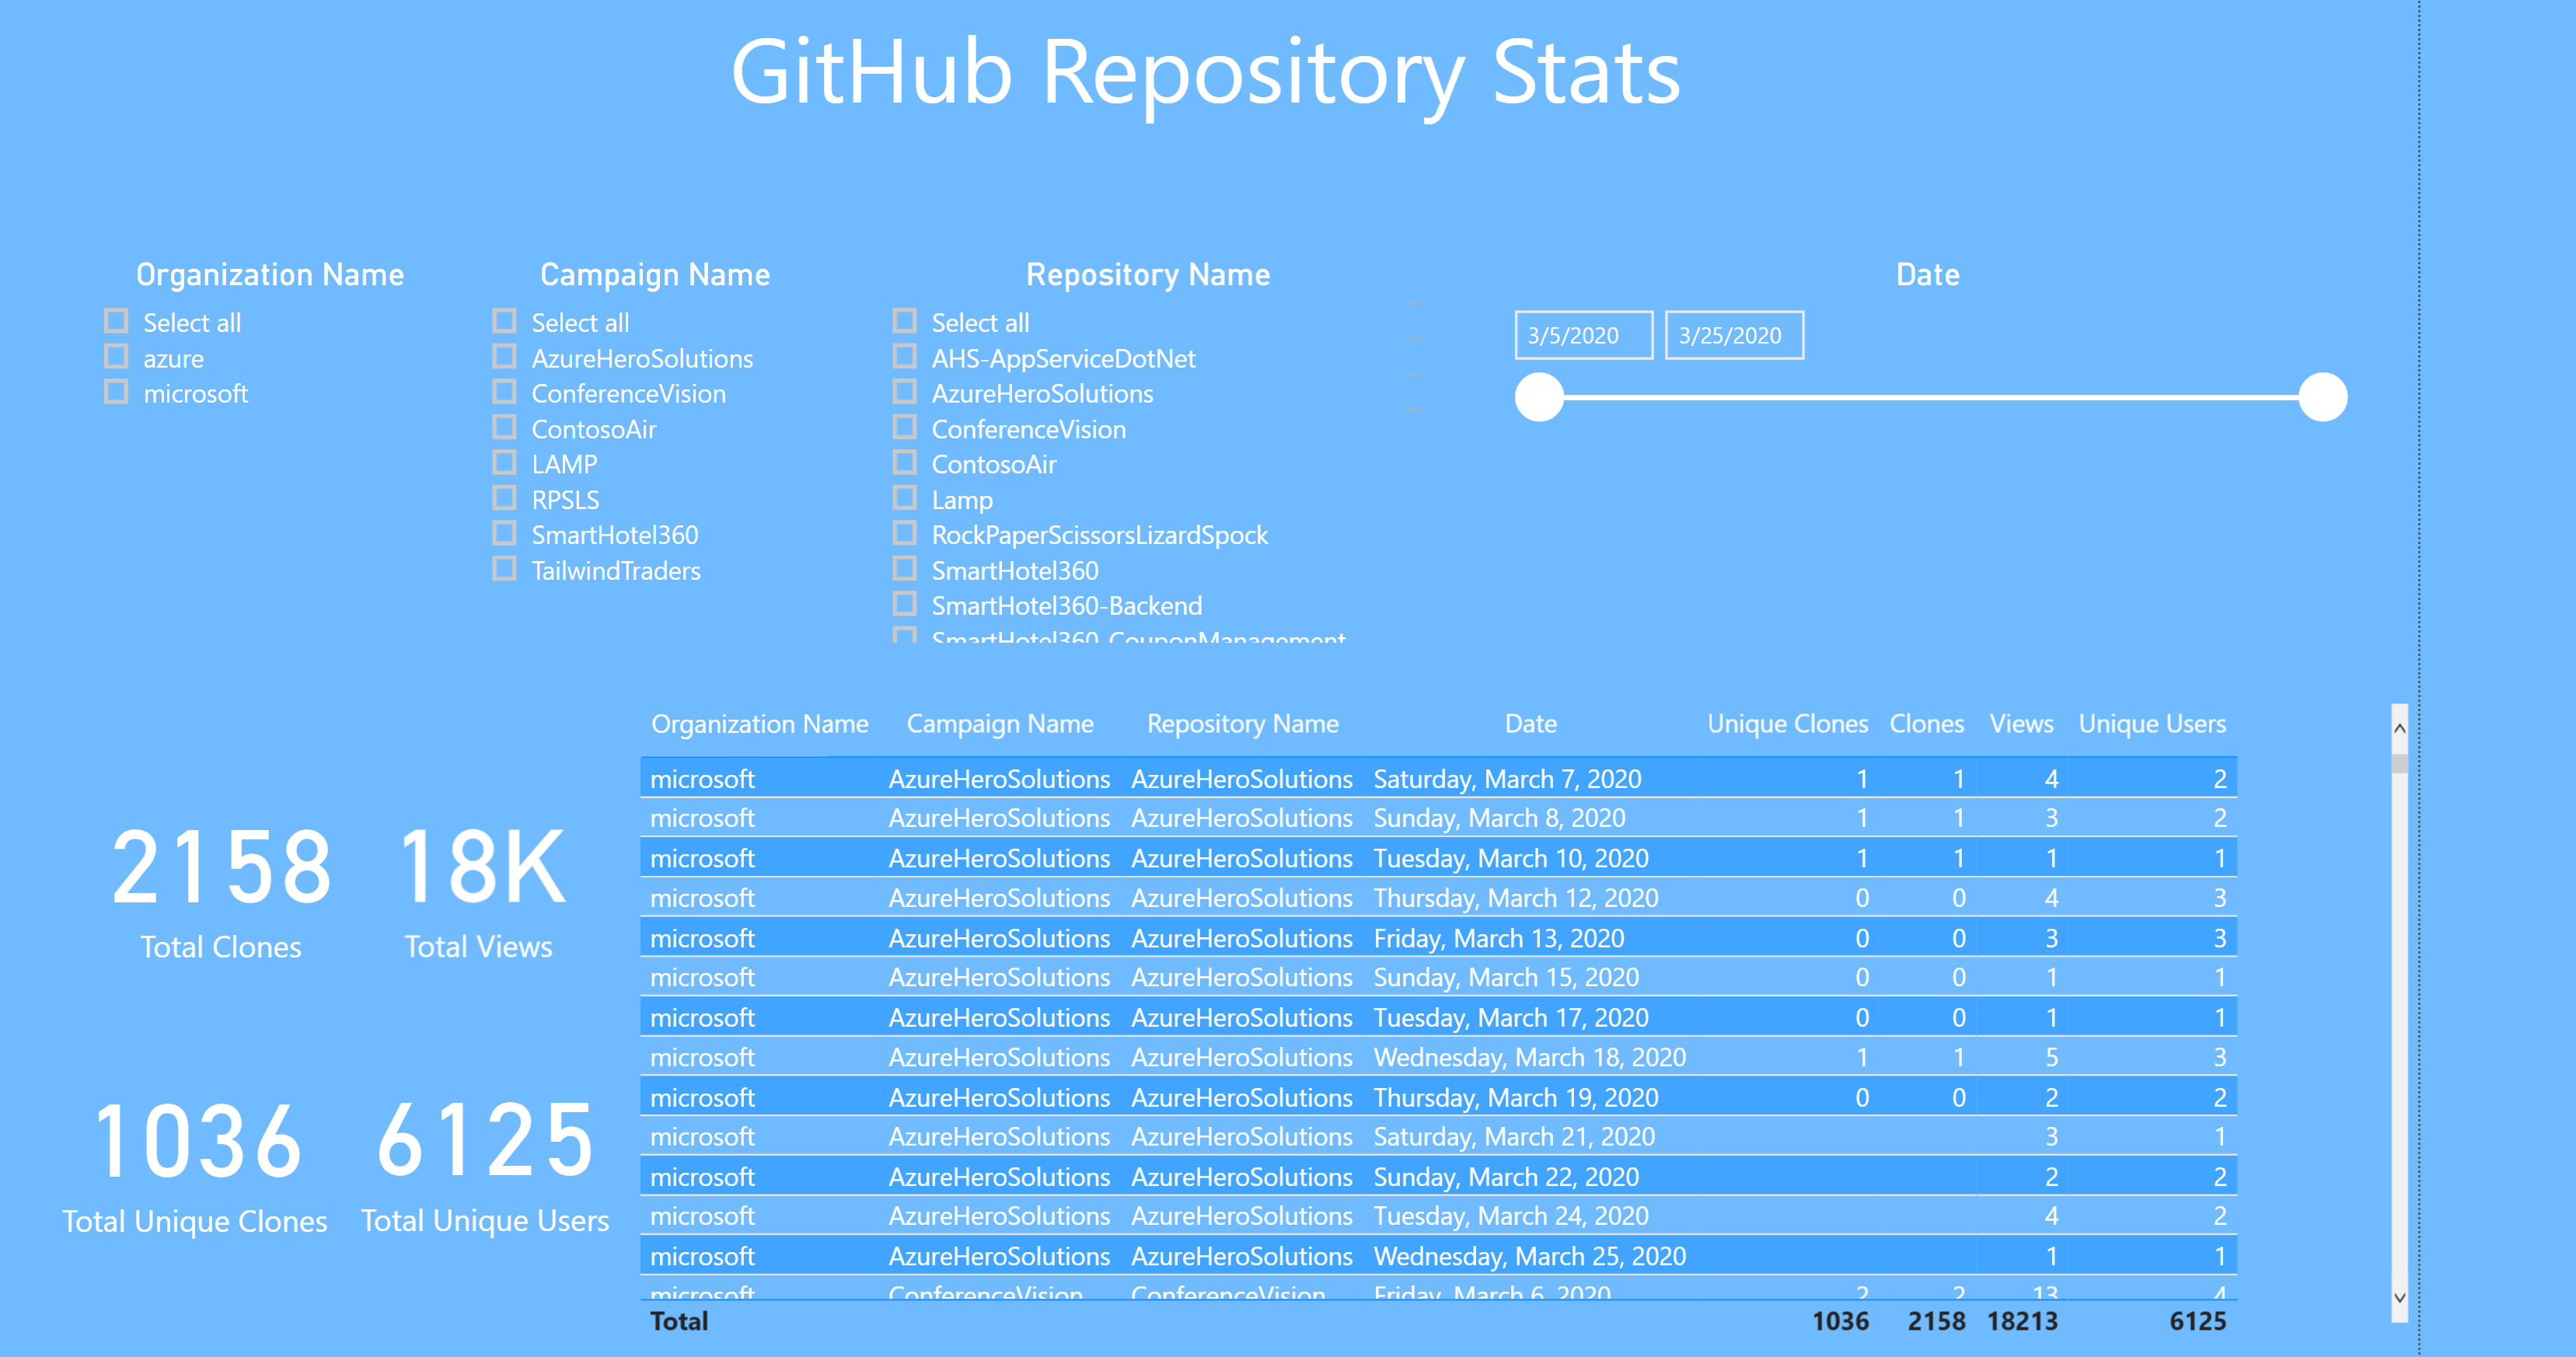

What the dashboard file says about the page in this screenshot:
{"tool":"powerbi","page":{"name":"GitHub Repository Stats","canvas":[1280,720],"ordinal":0},"visuals":[{"type":"tableEx","fields":{"Values":["RepoStats.Content.OrgName","RepoStats.Content.CampaignName","RepoStats.Content.RepoName","RepoStats.Content.Date","Sum(RepoStats.Unique Clones)","Sum(RepoStats.Clones)","Sum(RepoStats.Views)","Sum(RepoStats.Unique Users)"]},"box":[335.5,369.5,944.5,345.3],"z":0},{"type":"slicer","title":"Organization Name","fields":{"Values":["RepoStats.Content.OrgName"]},"box":[45.1,138,202.1,201.5],"z":1000},{"type":"slicer","title":"Campaign Name","fields":{"Values":["RepoStats.Content.CampaignName"]},"box":[249.9,138,198.8,183.8],"z":2000},{"type":"slicer","title":"Repository Name","fields":{"Values":["RepoStats.Content.RepoName"]},"box":[461.1,138,296.9,210],"z":3000},{"type":"card","fields":{"Values":["RepoStats.Total Views"]},"box":[175.9,401.6,159.6,124.9],"z":4000},{"type":"card","fields":{"Values":["RepoStats.Total Unique Users"]},"box":[182.5,542.2,153.1,132.8],"z":5000},{"type":"slicer","title":"Date","fields":{"Values":["RepoStats.Date"]},"box":[789.5,138,463.7,210],"z":6000},{"type":"textbox","box":[0,0,1280,91.6],"z":7000},{"type":"card","fields":{"Values":["RepoStats.Total Clones"]},"box":[39.9,401.6,159.6,124.9],"z":8000},{"type":"card","fields":{"Values":["RepoStats.Total Unique Clones"]},"box":[29.4,542.9,153.1,132.8],"z":9000}]}

Visuals, with their boxes on the page's 1280x720 design canvas (x1, y1, x2, y2). These are canvas units, not pixel positions in the 2576x1357 screenshot, which may show the page scaled, cropped or inside an application window:
tableEx - RepoStats.Content.OrgName x RepoStats.Content.CampaignName: 336:370:1280:715
"Organization Name" slicer: 45:138:247:340
"Campaign Name" slicer: 250:138:449:322
"Repository Name" slicer: 461:138:758:348
card - RepoStats.Total Views: 176:402:336:526
card - RepoStats.Total Unique Users: 182:542:336:675
"Date" slicer: 790:138:1253:348
textbox: 0:0:1280:92
card - RepoStats.Total Clones: 40:402:200:526
card - RepoStats.Total Unique Clones: 29:543:182:676
